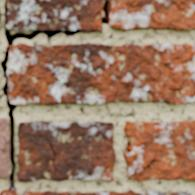brick: (8, 43, 194, 104), (17, 121, 115, 181), (123, 121, 194, 179), (6, 0, 102, 31), (110, 0, 194, 29), (0, 190, 190, 194), (0, 119, 8, 177)
crack: (0, 2, 81, 192), (128, 158, 159, 179), (100, 0, 121, 24), (127, 137, 147, 153), (90, 29, 95, 32)
